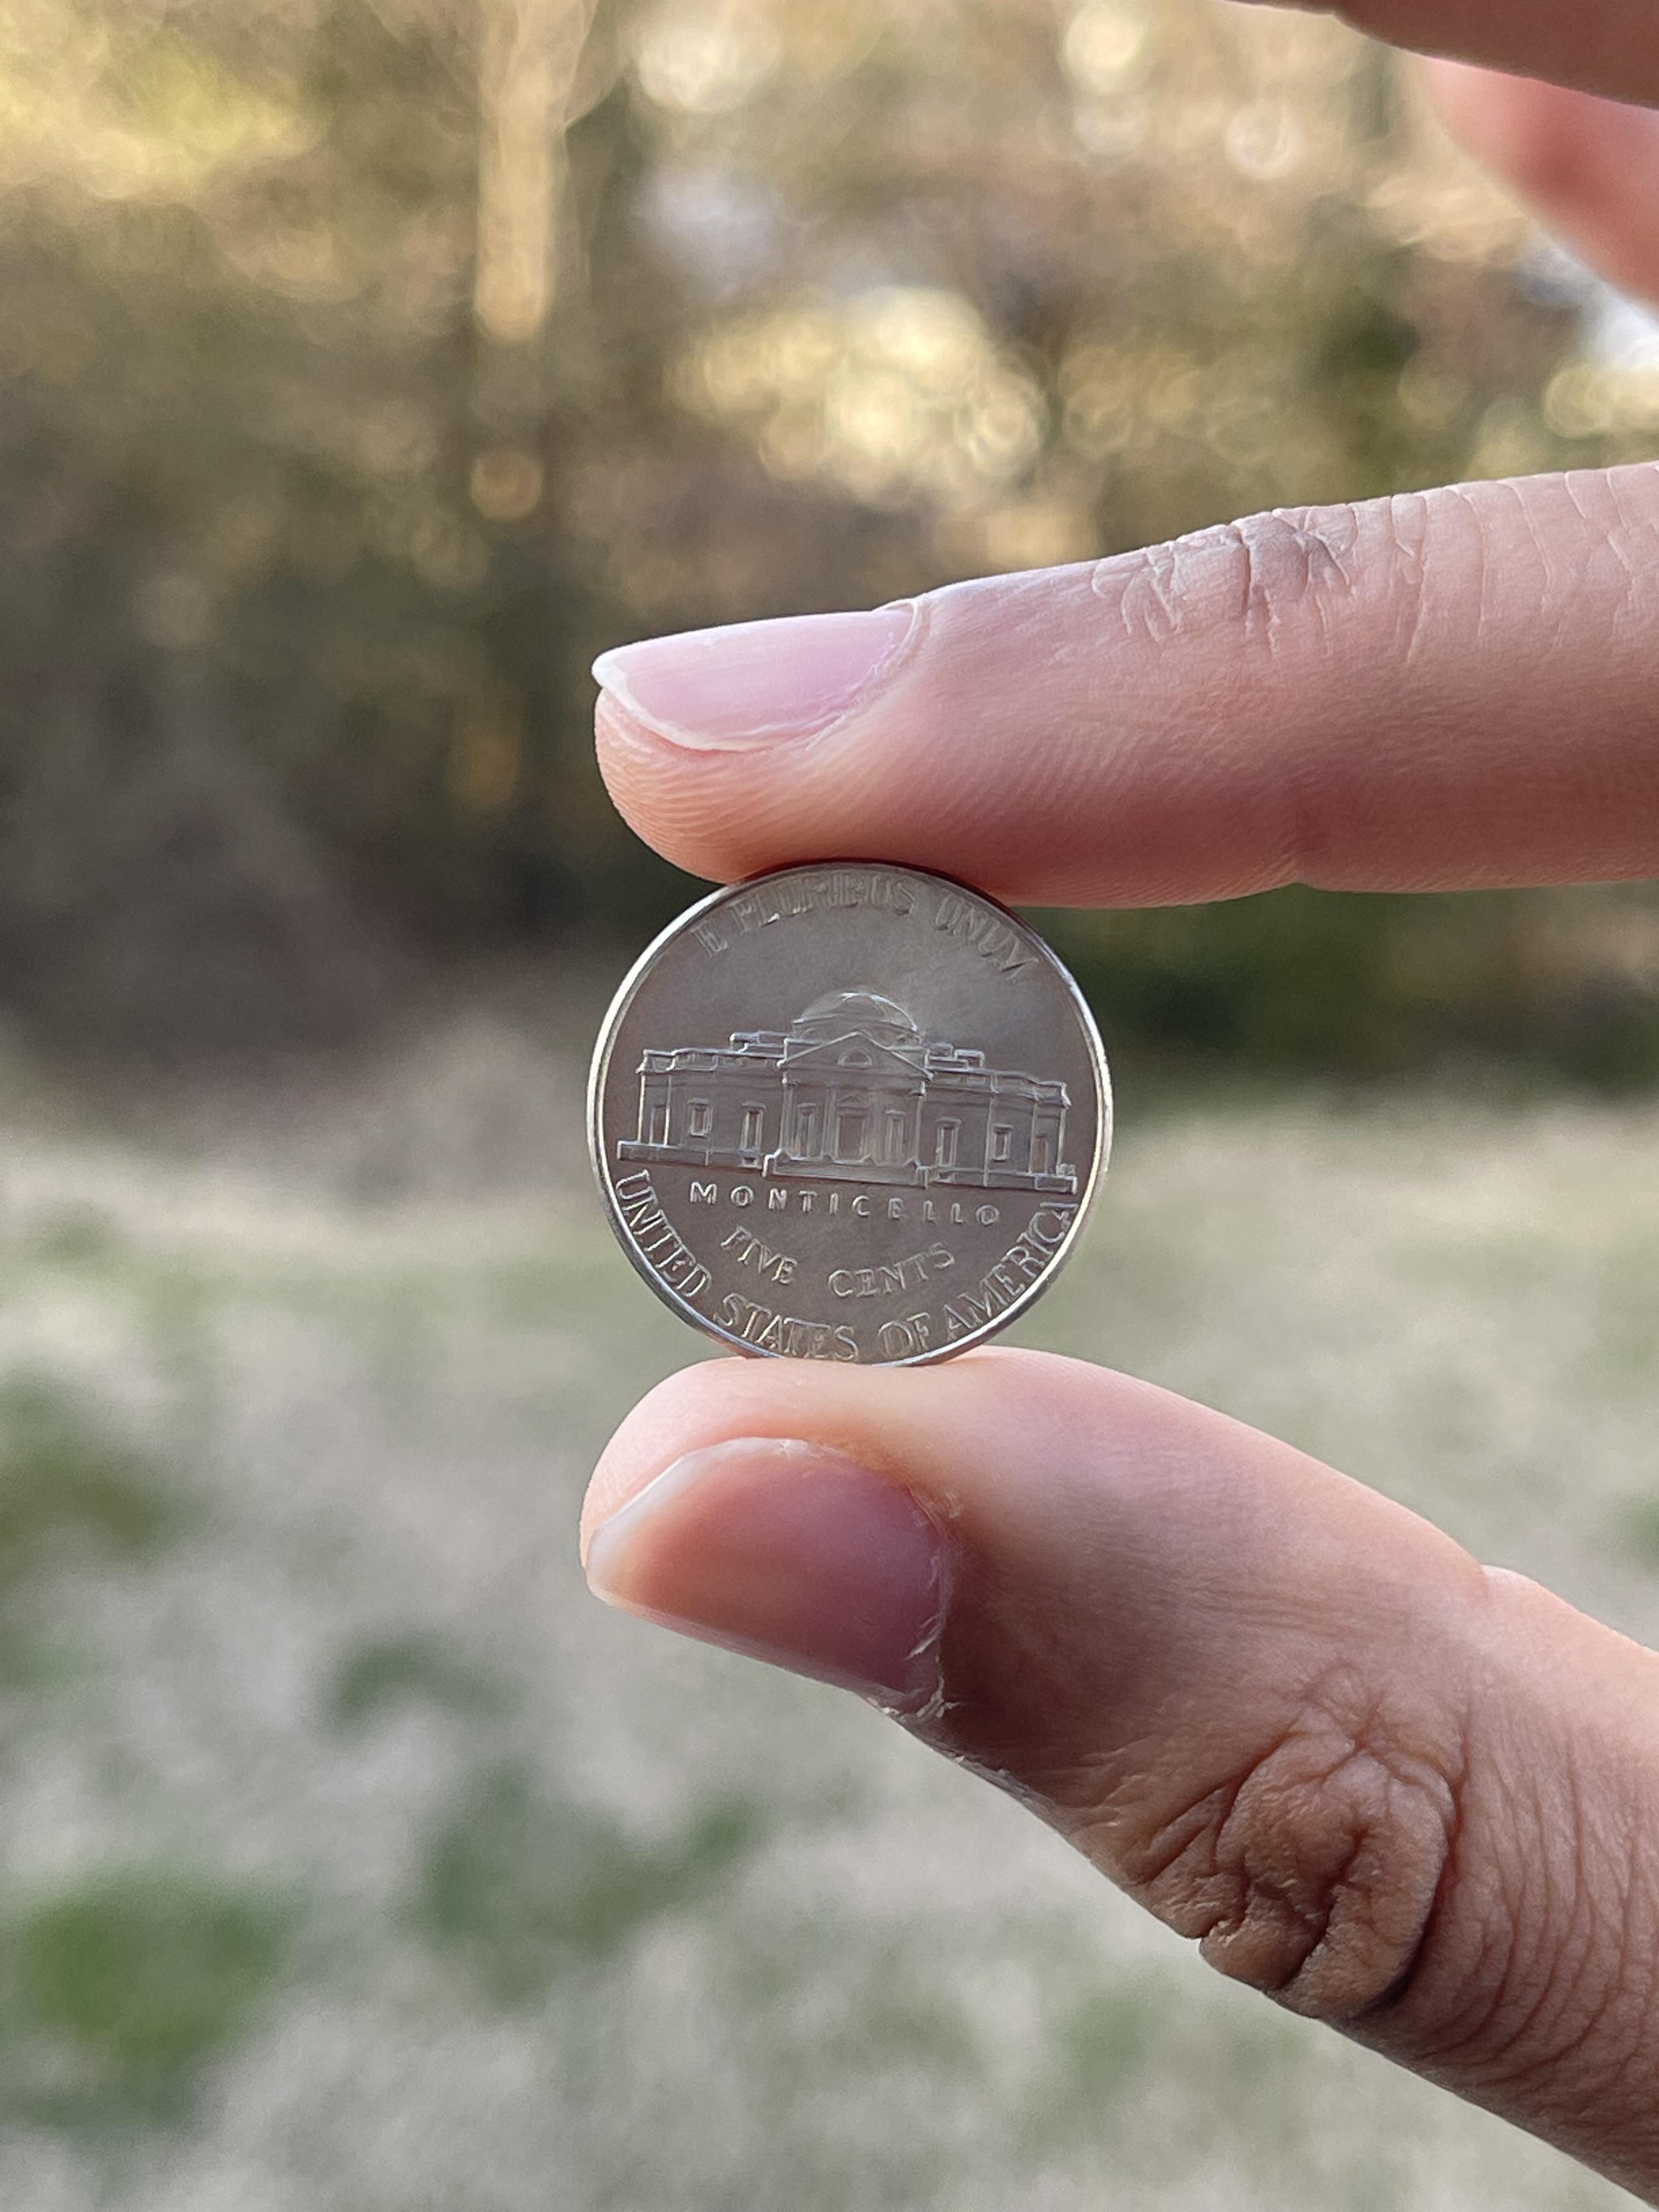Nickel: (582, 855, 1119, 1367)
